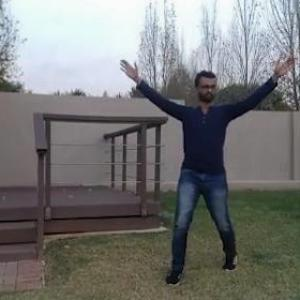takeoff: (105, 47, 299, 289)
